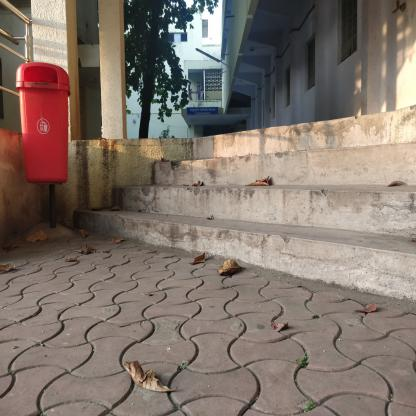stairs: (166, 165, 392, 295)
